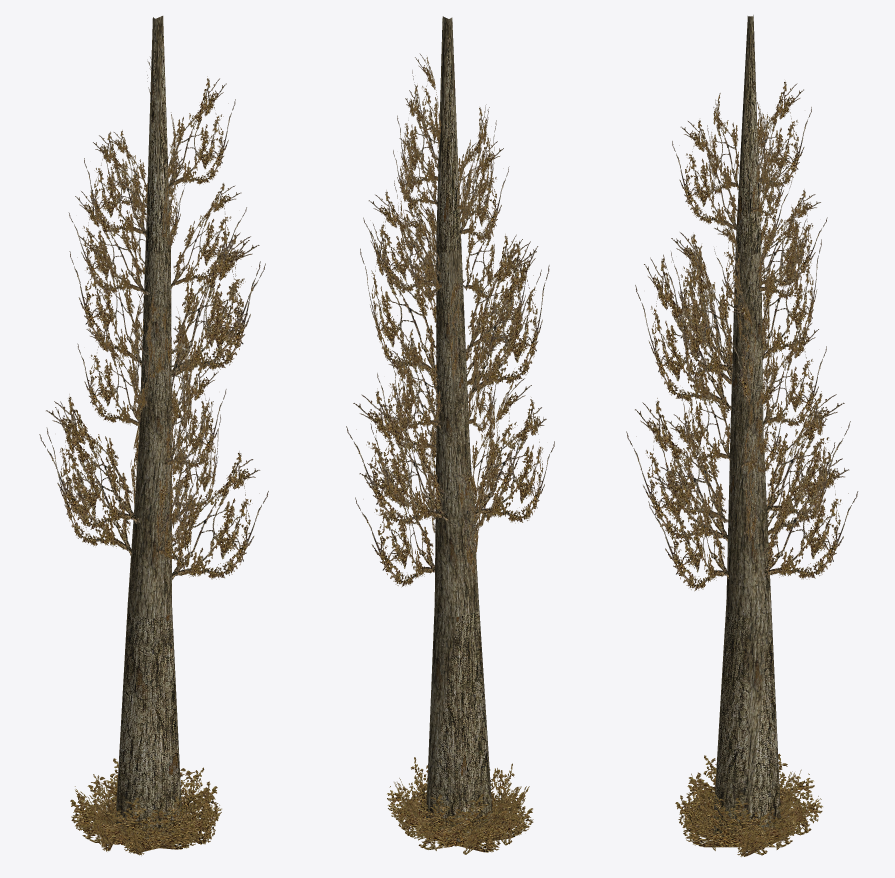
The model's file is w_cd_tree05.glb.
3 renders of one model, left to right at view 1: azimuth 30°, elevation 25°; view 2: azimuth 150°, elevation 25°; view 3: azimuth 270°, elevation 25°, orthographic.
Visible parts, largest first — view 1: w_cd_tree05; view 2: w_cd_tree05; view 3: w_cd_tree05.
Boxes of the visible parts, <box> form: w_cd_tree05: <box>39,16,268,855</box>; w_cd_tree05: <box>346,16,554,854</box>; w_cd_tree05: <box>626,15,858,856</box>.
Size of the model in its own units: 7.2 by 22.1 by 6.81.
3 materials, 3 textured.
